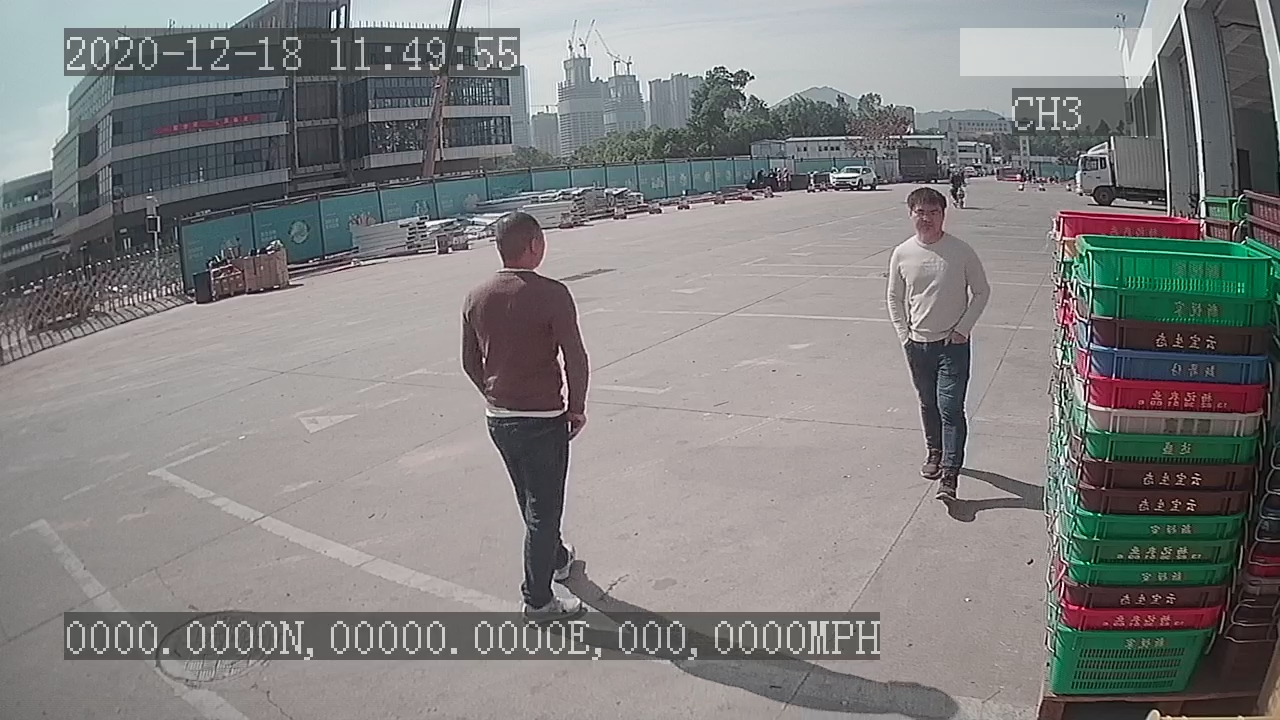person: (879, 185, 995, 511)
